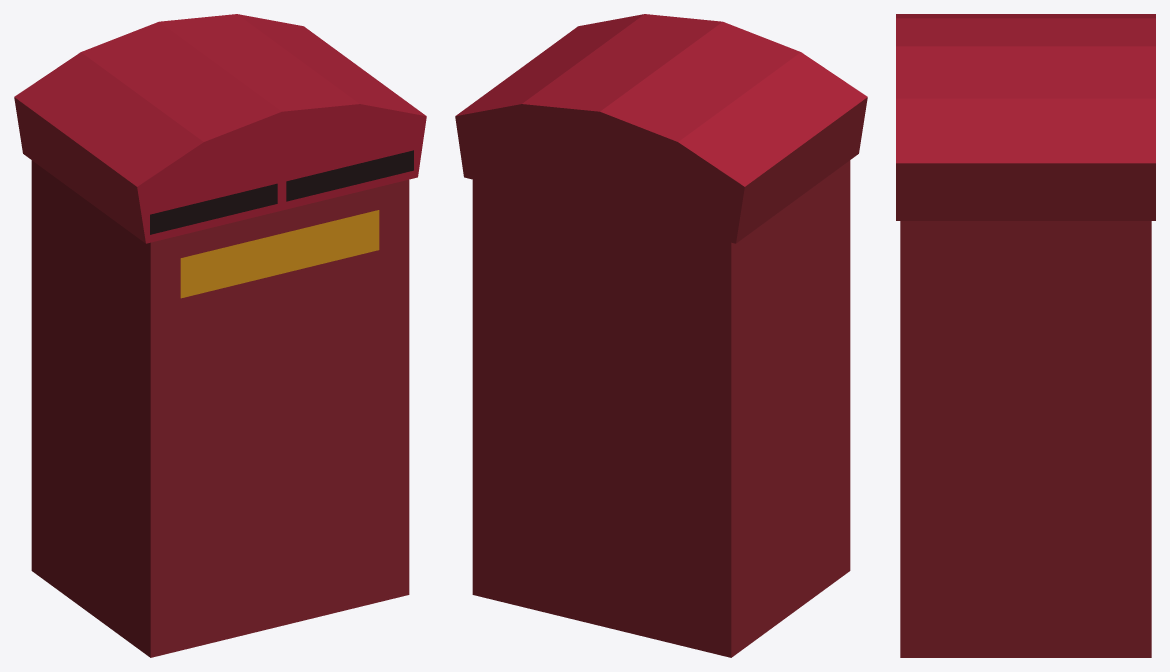
Rendered from TB_CITY_Prop_Postbox_B.FBX.
The picture shows the model from 3 angles, left to right: view 1: azimuth 30°, elevation 25°; view 2: azimuth 150°, elevation 25°; view 3: azimuth 270°, elevation 25°; orthographic projection. The views are drawn at different scales.
Visible parts, largest first — view 1: TB_CITY_Prop_Postbox_B; view 2: TB_CITY_Prop_Postbox_B; view 3: TB_CITY_Prop_Postbox_B.
Part boxes in pixels (bbox=[...]): TB_CITY_Prop_Postbox_B: bbox=[14, 14, 426, 657]; TB_CITY_Prop_Postbox_B: bbox=[455, 14, 867, 657]; TB_CITY_Prop_Postbox_B: bbox=[896, 14, 1155, 657].
Bounding box in the file's own units: 1.43 × 2.44 × 1.05.
